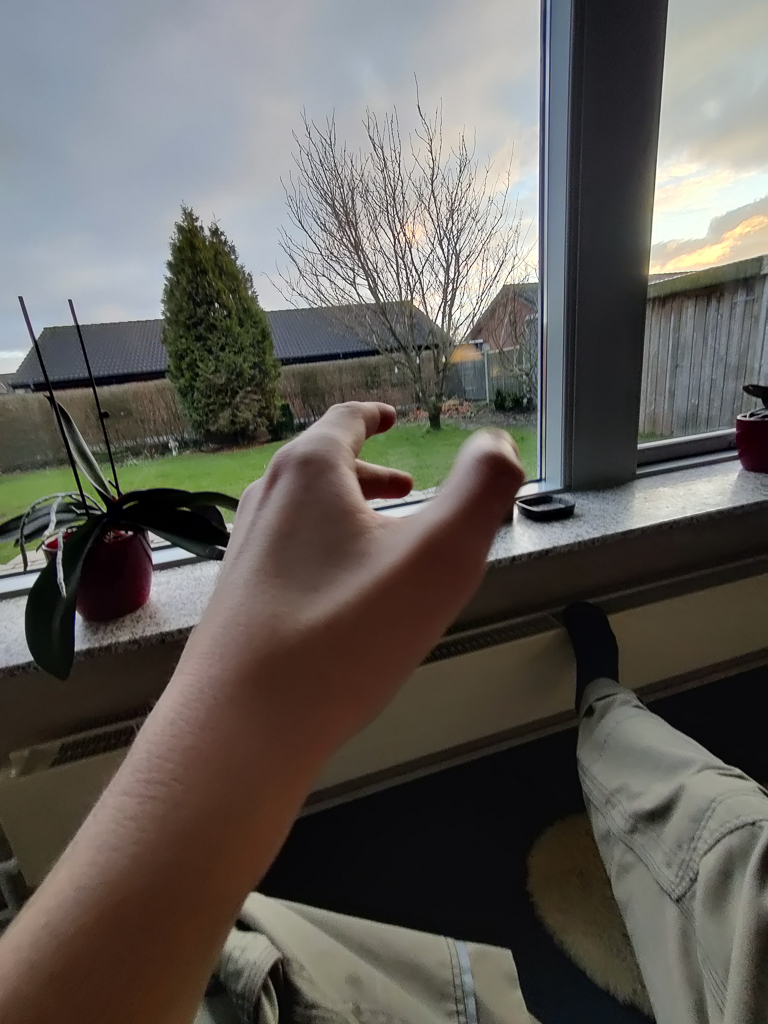Eagle: (166, 437, 184, 459)
Humanoid: (0, 382, 768, 1024)
